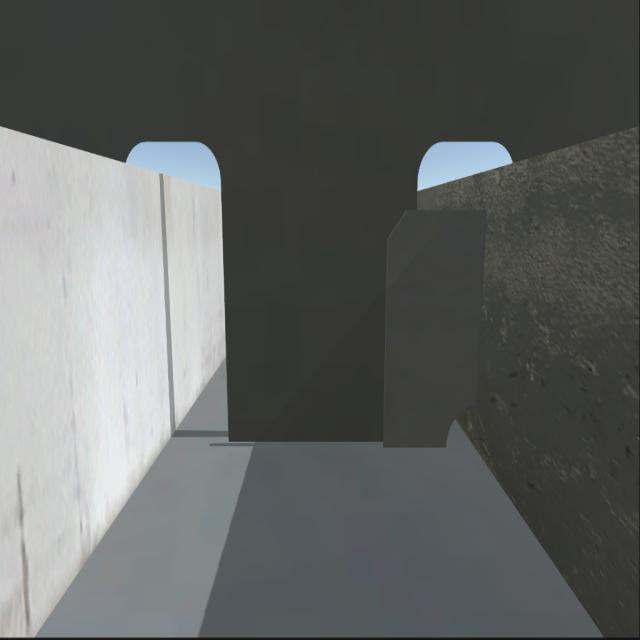fillet_hole: (444, 406, 473, 452)
fillet_yong_jeop_jang: (219, 433, 454, 446)
longi_yong_jeop_jang: (469, 208, 490, 415)
plate_CP03: (376, 215, 485, 444)
